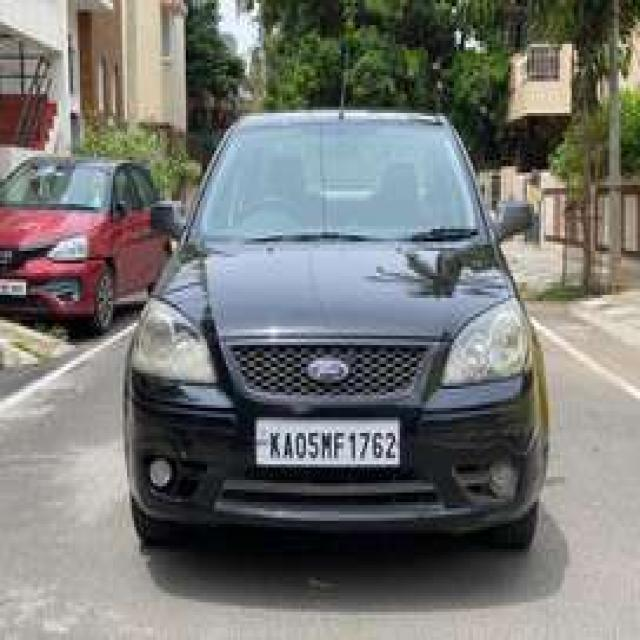plate: (254, 419, 401, 468), (0, 278, 29, 295)
